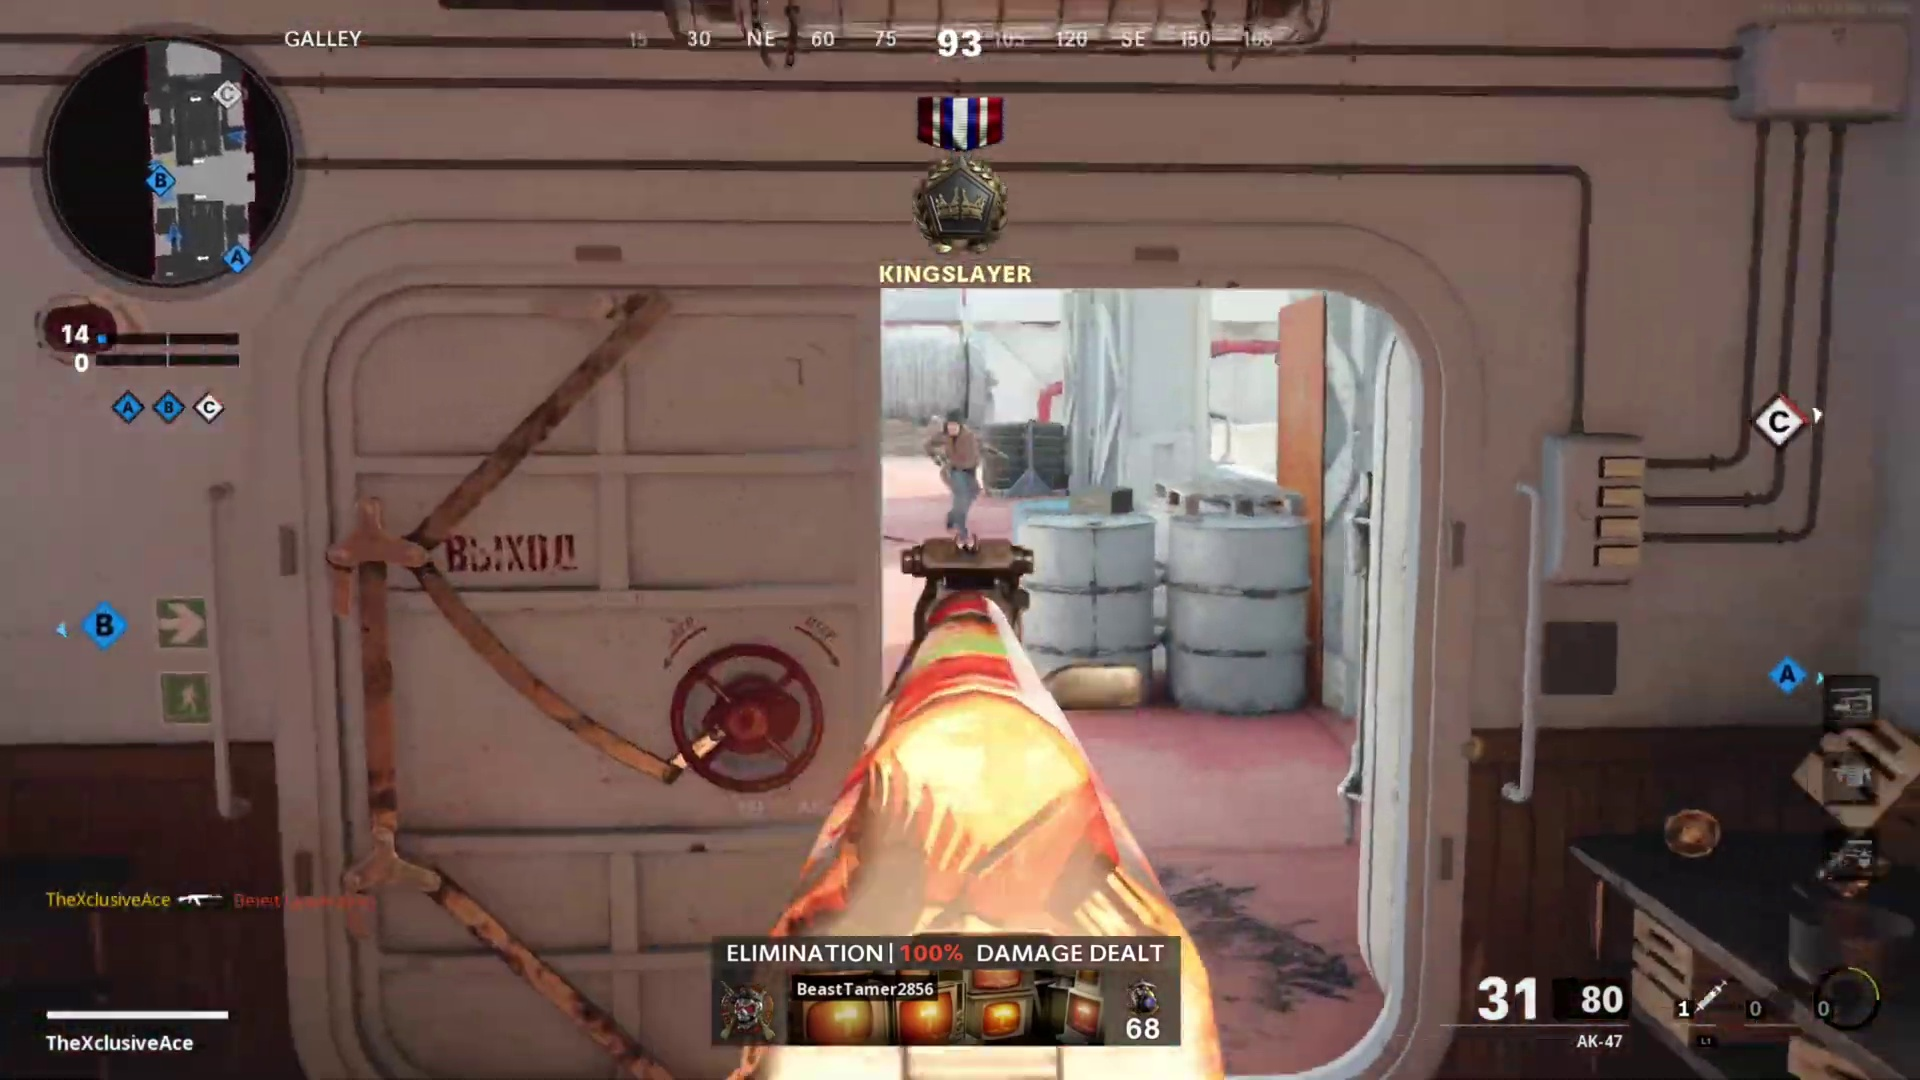head: (940, 409, 967, 443)
person: (925, 413, 981, 537)
